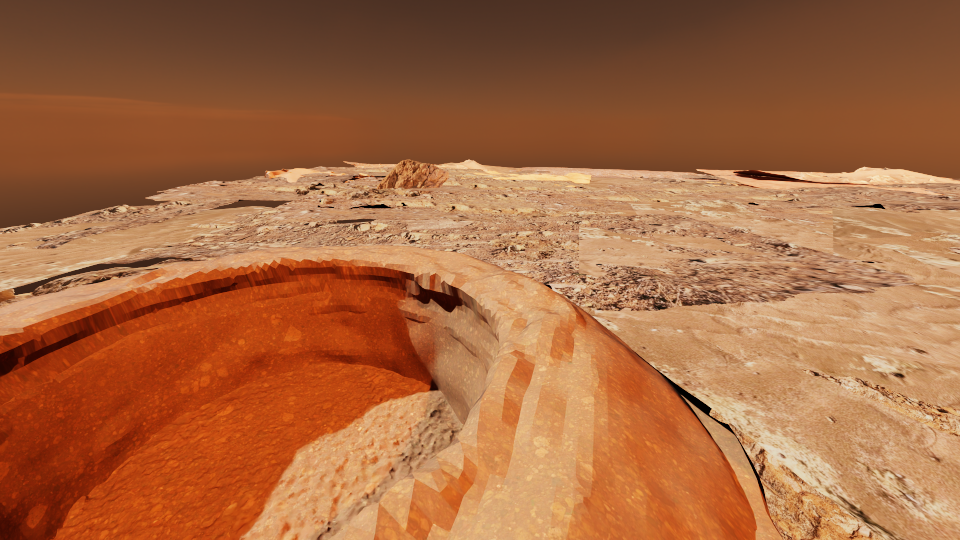bedrock: (0, 184, 914, 310), (709, 409, 881, 539), (0, 199, 241, 248), (802, 368, 959, 436), (724, 186, 959, 214), (533, 169, 728, 183), (442, 180, 603, 191), (578, 194, 676, 201), (296, 173, 358, 182), (870, 183, 959, 189), (449, 171, 504, 178), (233, 176, 287, 181), (642, 187, 709, 191), (351, 169, 391, 173), (697, 181, 734, 185), (196, 223, 229, 227), (6, 242, 29, 246), (319, 198, 334, 203), (825, 416, 836, 422)
hole: (0, 291, 496, 539)
rocks: (377, 159, 448, 188), (415, 190, 434, 193)
sand: (580, 199, 959, 539), (0, 206, 270, 291), (579, 226, 758, 276), (696, 169, 942, 194), (463, 165, 710, 189), (762, 171, 800, 174), (871, 182, 903, 184)
soil: (0, 245, 783, 539), (145, 162, 514, 222), (386, 178, 768, 211), (739, 203, 832, 226), (505, 167, 697, 175), (803, 176, 868, 183), (0, 423, 12, 444), (925, 190, 959, 197), (441, 166, 484, 171), (733, 171, 771, 176), (847, 195, 881, 200), (775, 174, 801, 180), (591, 175, 638, 178), (919, 178, 942, 182), (945, 247, 959, 253), (301, 173, 331, 175), (271, 170, 281, 176), (811, 172, 840, 174), (693, 178, 721, 180), (275, 314, 282, 318)
